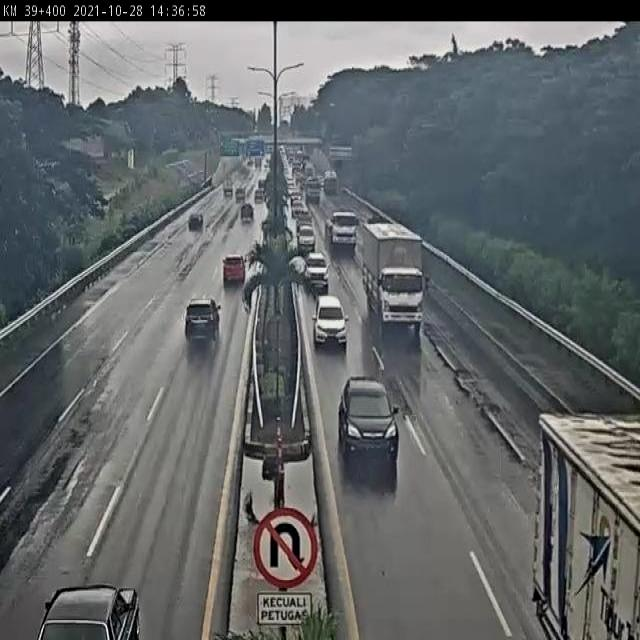Car: (35, 584, 140, 640), (336, 376, 402, 465), (312, 294, 349, 350), (184, 298, 223, 342), (302, 251, 330, 292), (222, 254, 246, 284), (296, 225, 316, 251), (290, 198, 305, 216), (241, 202, 254, 222), (188, 212, 203, 228), (253, 188, 264, 202)
Truck: (527, 405, 640, 640), (359, 220, 433, 330), (325, 208, 361, 253), (322, 170, 337, 195), (305, 180, 321, 202), (223, 178, 234, 196)
